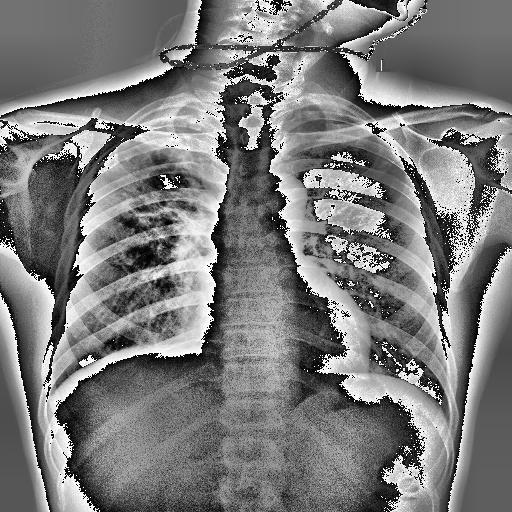0- Aortic enlargement: (263, 172, 309, 248)
13- Pulmonary fibrosis: (100, 120, 222, 290), (118, 142, 204, 222)
6- Infiltration: (100, 120, 222, 290), (101, 133, 212, 256), (377, 158, 396, 170)
